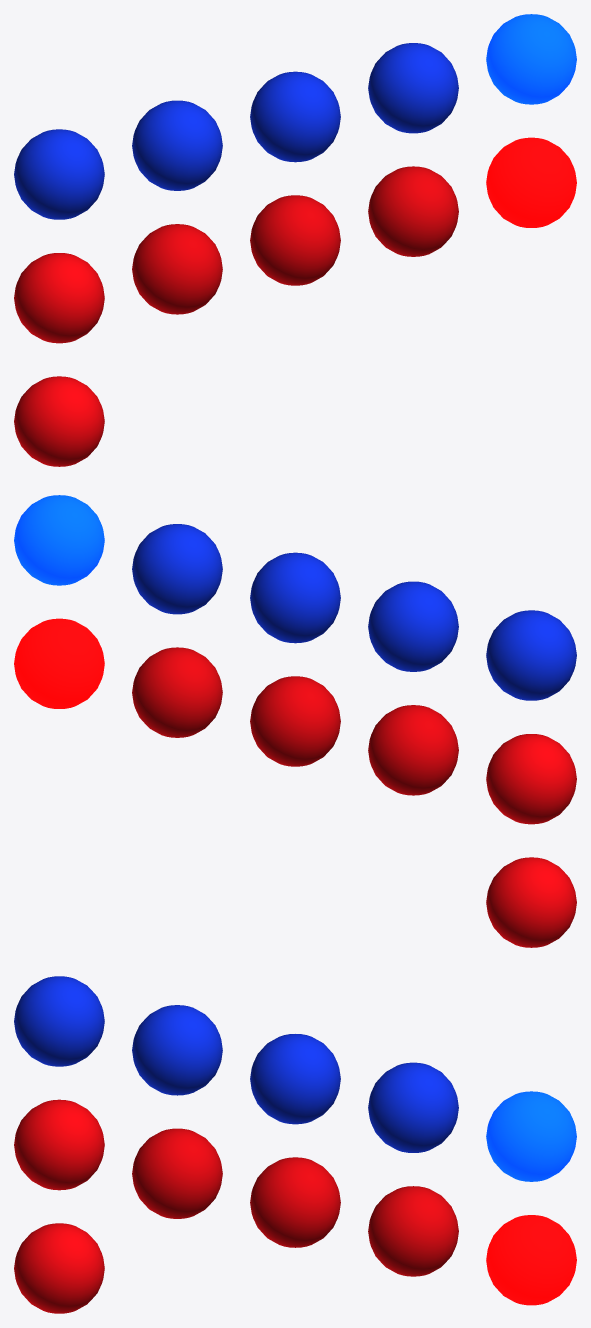
Rendered from MaterialTests_01.glb.
3 renders of one model, top to bottom at view 1: azimuth 30°, elevation 25°; view 2: azimuth 150°, elevation 25°; view 3: azimuth 330°, elevation 25°, orthographic.
Parts seen in each view (by area): view 1: Sphere, Sphere.001; view 2: Sphere, Sphere.001; view 3: Sphere, Sphere.001.
Part boxes in pixels (left/top/right/bottom): Sphere: left=14, top=14, right=576, bottom=343; Sphere.001: left=14, top=376, right=104, bottom=466; Sphere: left=14, top=495, right=576, bottom=824; Sphere.001: left=486, top=857, right=576, bottom=947; Sphere: left=14, top=976, right=576, bottom=1305; Sphere.001: left=14, top=1223, right=104, bottom=1313.
Bounding box in the file's own units: 7 × 4 × 1.
Materials: 1 (1 with a texture image).
